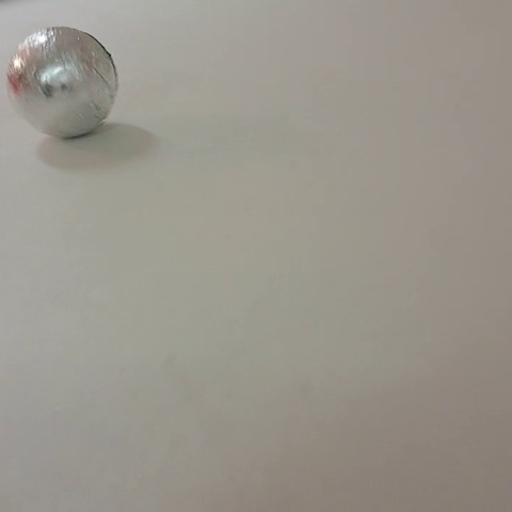alive: (5, 26, 120, 138)
